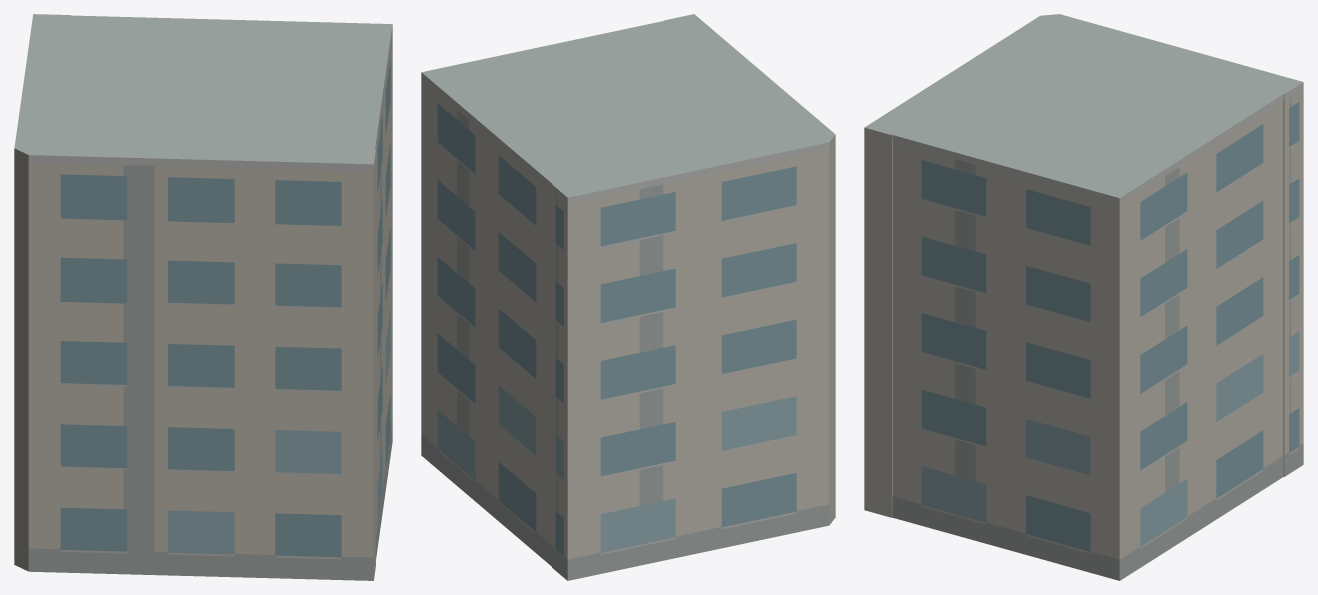
Rendered from survey-upis-33037395.glb.
The picture shows the model from 3 angles, left to right: view 1: azimuth 30°, elevation 25°; view 2: azimuth 150°, elevation 25°; view 3: azimuth 270°, elevation 25°; orthographic projection. The views are drawn at different scales.
Visible parts, largest first — view 1: survey-upis-33037395.tmp; view 2: survey-upis-33037395.tmp; view 3: survey-upis-33037395.tmp.
Part boxes in pixels (left/top/right/bottom): survey-upis-33037395.tmp: left=14, top=14, right=392, bottom=580; survey-upis-33037395.tmp: left=421, top=14, right=835, bottom=580; survey-upis-33037395.tmp: left=864, top=14, right=1303, bottom=580.
Bounding box in the file's own units: 14.2 × 13.75 × 14.31.
